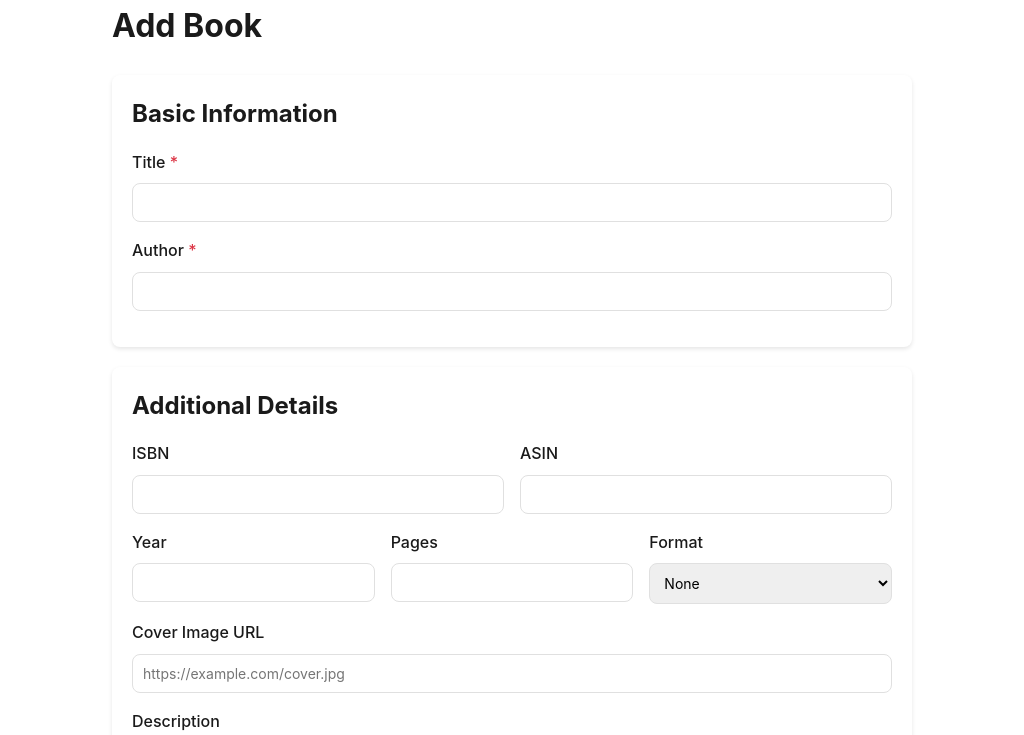
Test: AddBook › should validate author is required
Type "Test Book" into the field labelled "Title *" at (512, 203), box [132,183,892,222]
(page scrolled)
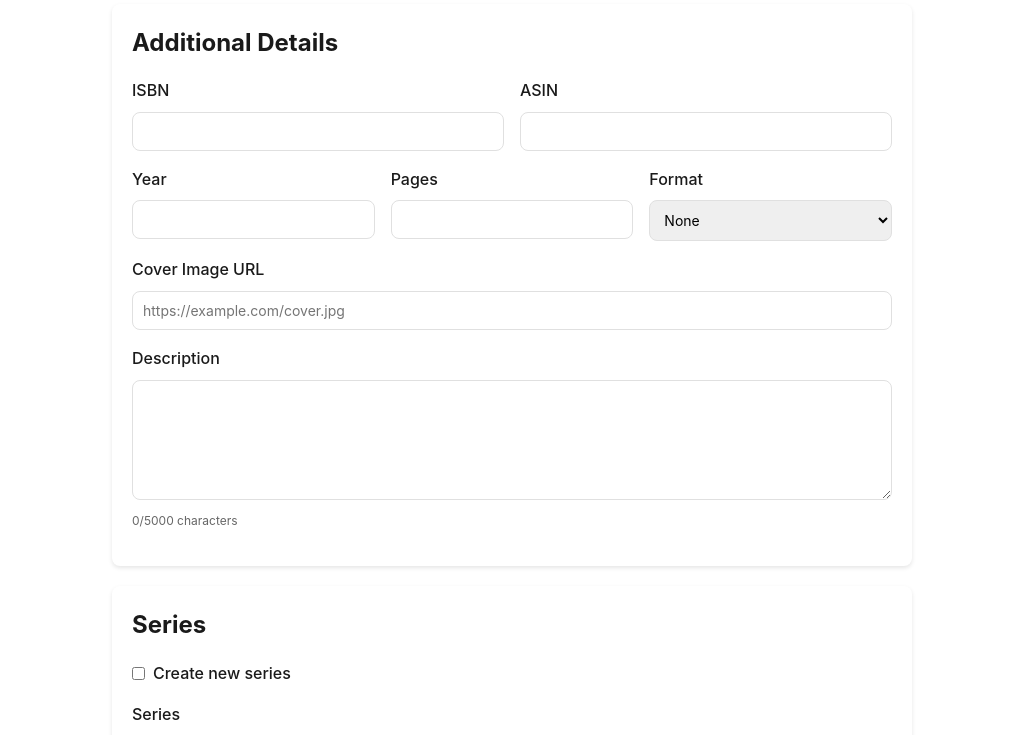
Submit the form named "Add Book"
(page scrolled)
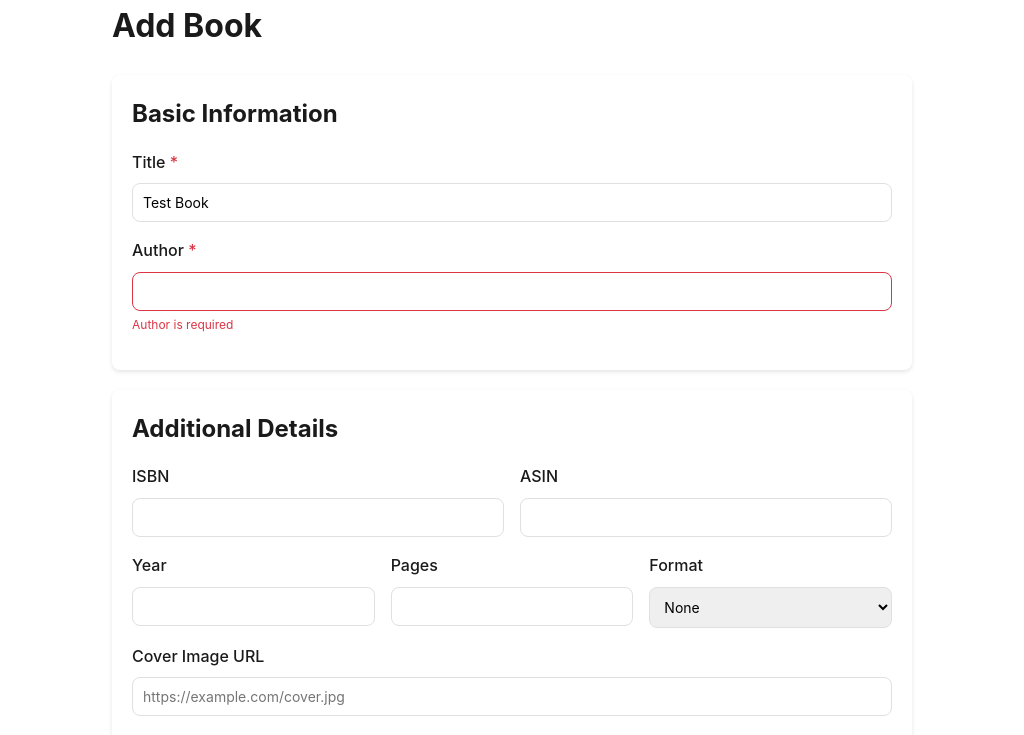
Expected: the text "Author is required" is shown, [132,317,233,332]
